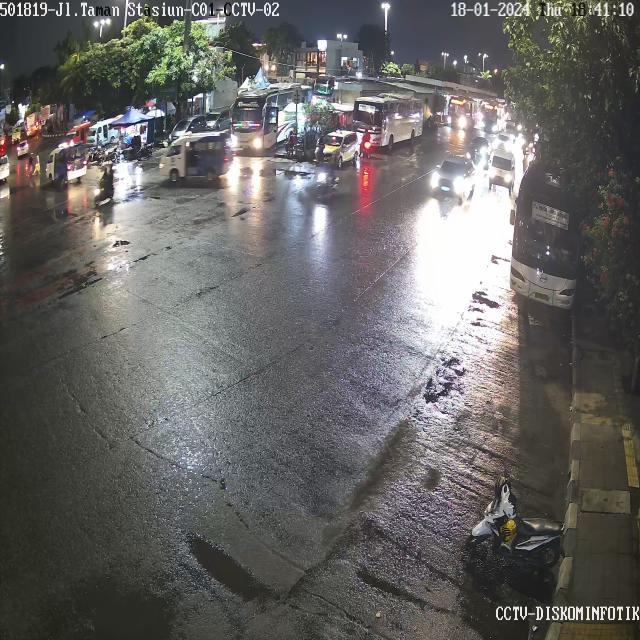Payung: (105, 108, 157, 129)
